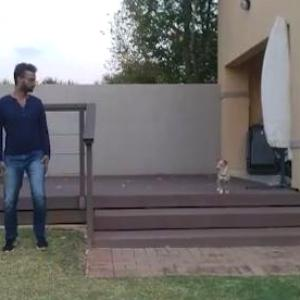follow: (0, 56, 57, 260)
